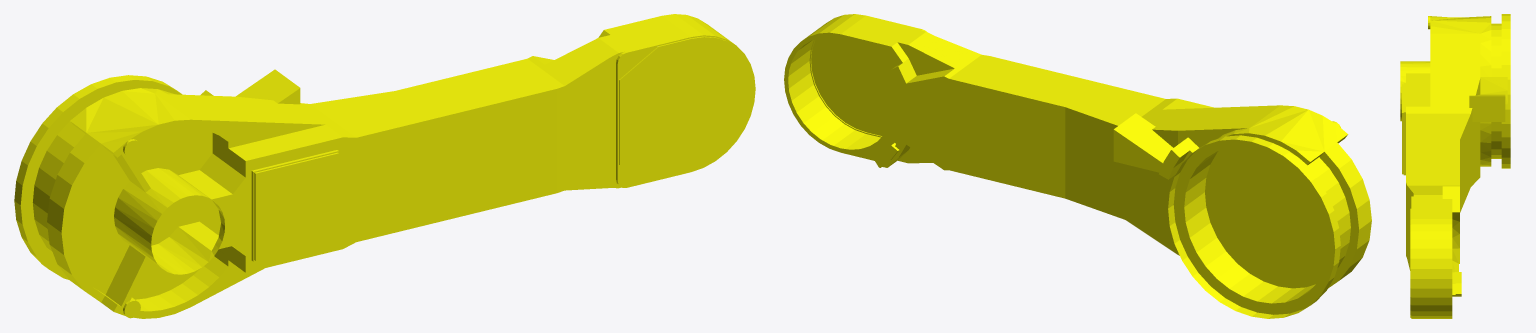
The picture shows the model from 3 angles, left to right: view 1: azimuth 30°, elevation 25°; view 2: azimuth 150°, elevation 25°; view 3: azimuth 270°, elevation 25°; orthographic projection. The views are drawn at different scales.
Parts seen in each view (by area): view 1: node; view 2: node; view 3: node.
Part boxes in pixels (x1=…): node: x1=14, y1=14, x2=755, y2=318; node: x1=784, y1=14, x2=1371, y2=318; node: x1=1400, y1=14, x2=1510, y2=318.
Size of the model in its own units: 1142 by 325 by 254.
